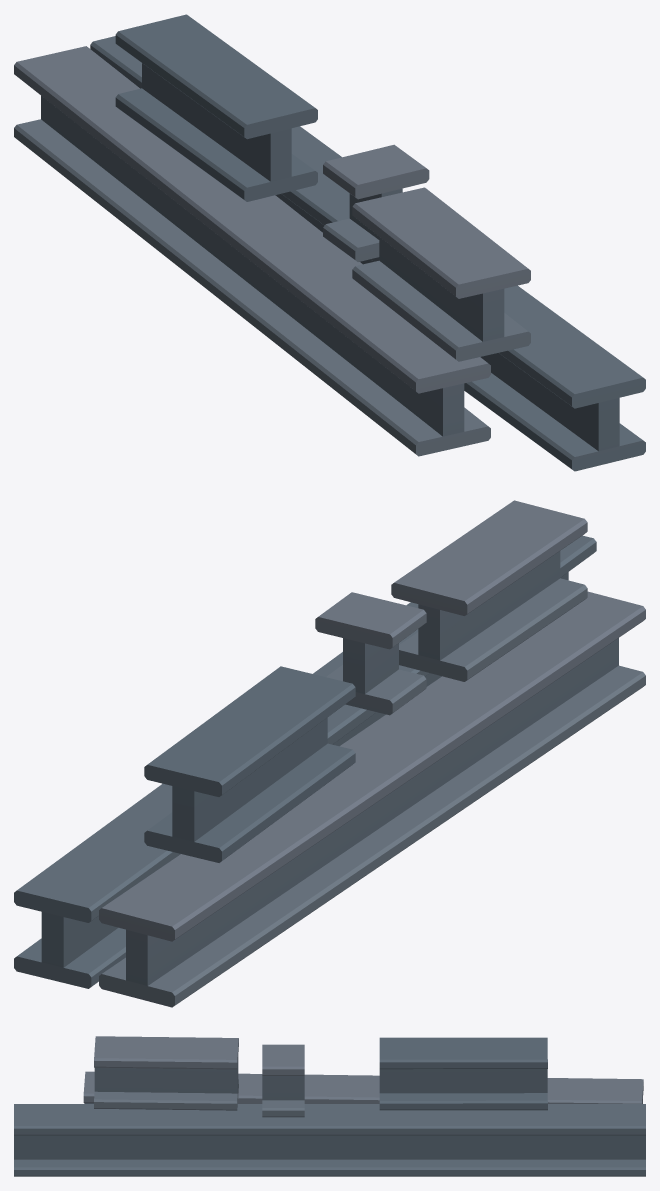
The model's file is Rails_C_4_2.glb.
The picture shows the model from 3 angles, top to bottom: view 1: azimuth 30°, elevation 25°; view 2: azimuth 150°, elevation 25°; view 3: azimuth 270°, elevation 25°; orthographic projection. The views are drawn at different scales.
Parts seen in each view (by area): view 1: Rails_C_4_2; view 2: Rails_C_4_2; view 3: Rails_C_4_2.
Part boxes in pixels (box(x1,y1,x2,y2)): Rails_C_4_2: box(14, 14, 645, 471); Rails_C_4_2: box(14, 500, 645, 1007); Rails_C_4_2: box(14, 1036, 645, 1176).
Size of the model in its own units: 0.8898 by 0.7486 by 4.23.
1 material, 1 textured.
